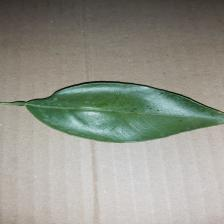healthy: (22, 80, 224, 144)
